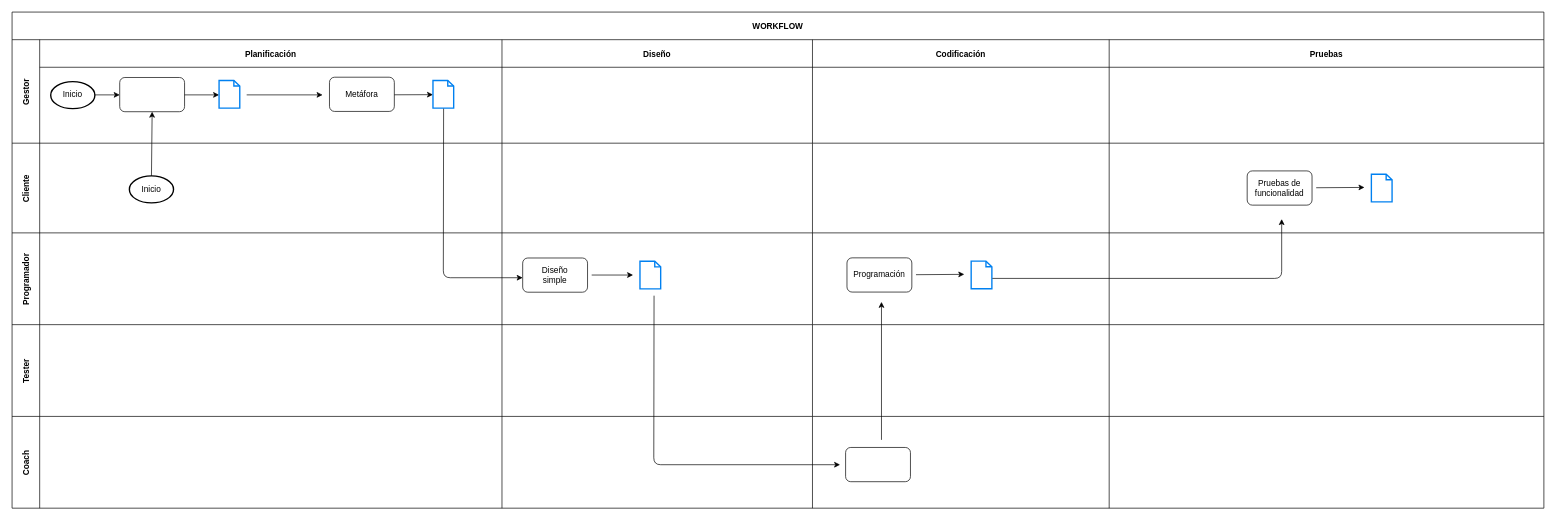
Some shapes in this 1556 by 520 pixel diagram are drawn without their labels. Each missing label, with the centre of its shape:
Estándares de programación: point (877, 464)
Historias de Usuario: point (152, 94)
